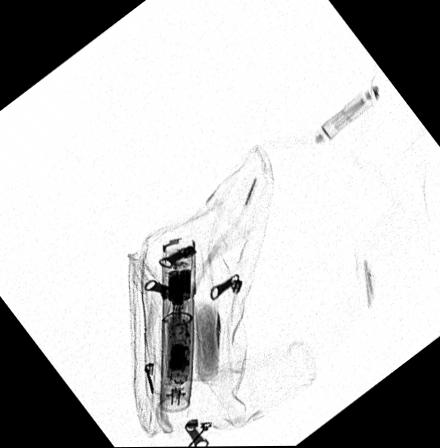Baton: (157, 235, 196, 415)
